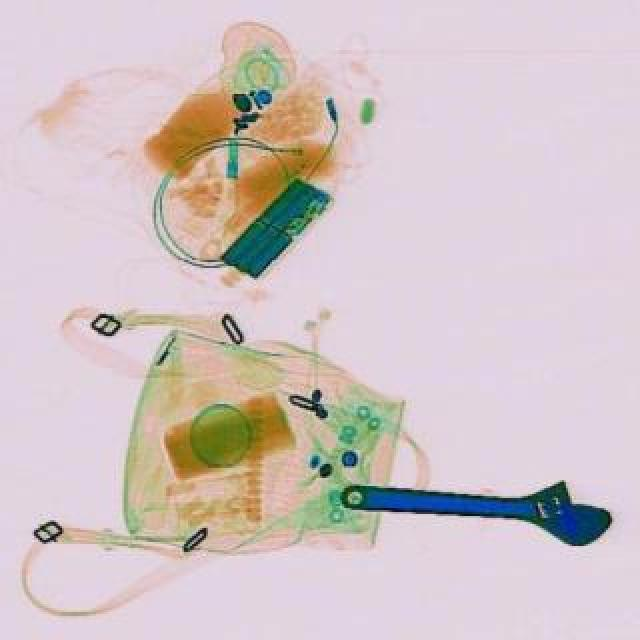scissors: (334, 460, 614, 546)
